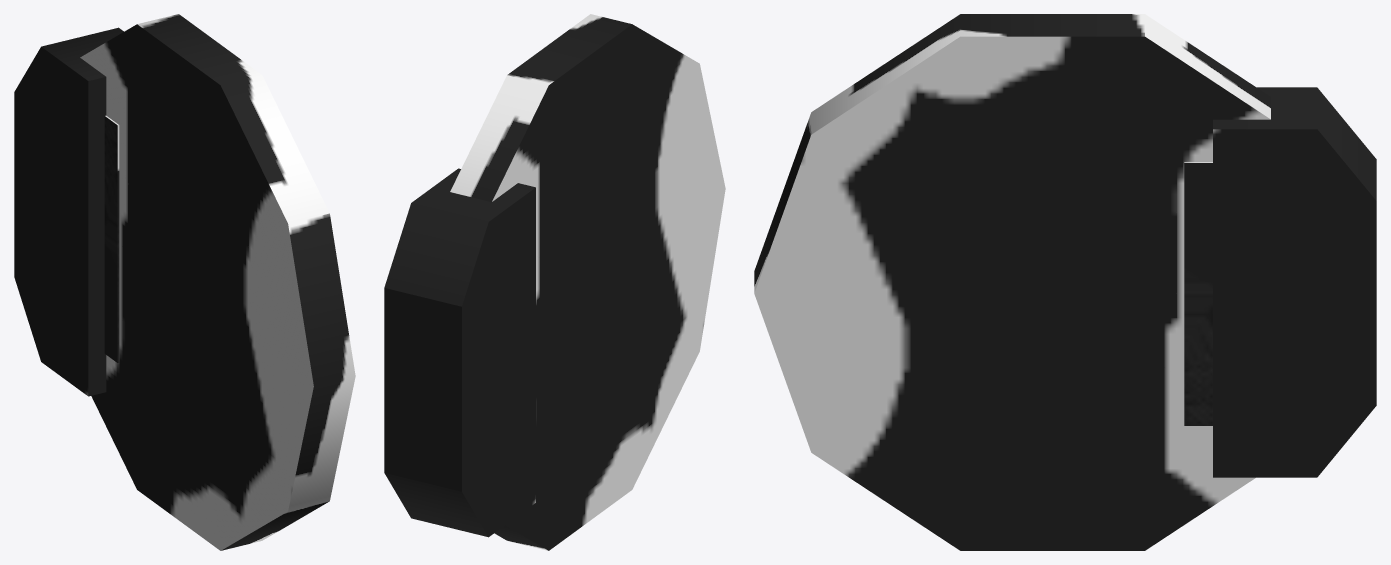
File: Brakes.FBX
3 renders of one model, left to right at view 1: azimuth 30°, elevation 25°; view 2: azimuth 150°, elevation 25°; view 3: azimuth 270°, elevation 25°, orthographic. The views are drawn at different scales.
Visible parts, largest first — view 1: BrakeDisk_02, BrakeShoe_02, BrakeShoe_01; view 2: BrakeDisk_02, BrakeShoe_02; view 3: BrakeDisk_02, BrakeShoe_02, BrakeShoe_01.
Boxes of the visible parts, x1=… form: BrakeDisk_02: x1=80, y1=14, x2=355, y2=550; BrakeShoe_02: x1=14, y1=27, x2=123, y2=396; BrakeShoe_01: x1=104, y1=115, x2=119, y2=362; BrakeDisk_02: x1=450, y1=14, x2=725, y2=550; BrakeShoe_02: x1=384, y1=168, x2=535, y2=537; BrakeDisk_02: x1=754, y1=14, x2=1270, y2=550; BrakeShoe_02: x1=1213, y1=87, x2=1376, y2=477; BrakeShoe_01: x1=1184, y1=162, x2=1212, y2=425.
Bounding box in the file's own units: 312 × 1787 × 1959.
